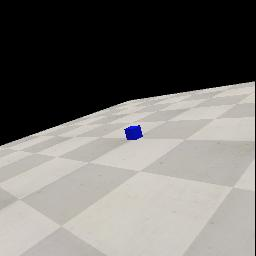box: (124, 125, 143, 140)
